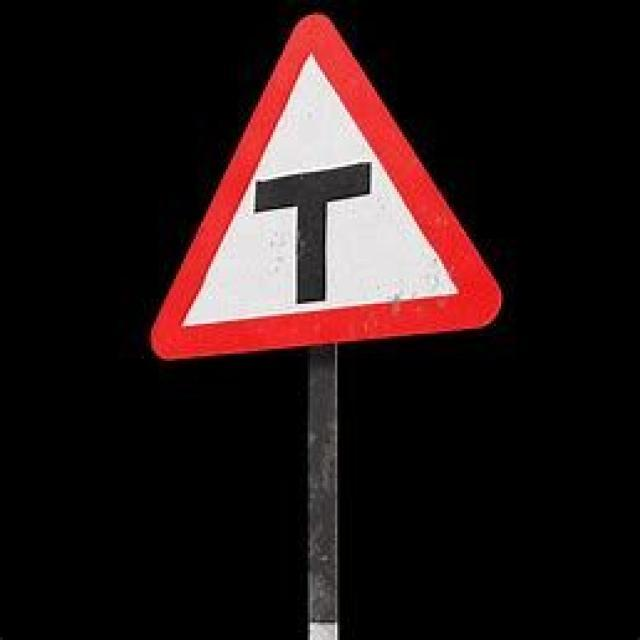t intersection: (151, 21, 506, 371)
